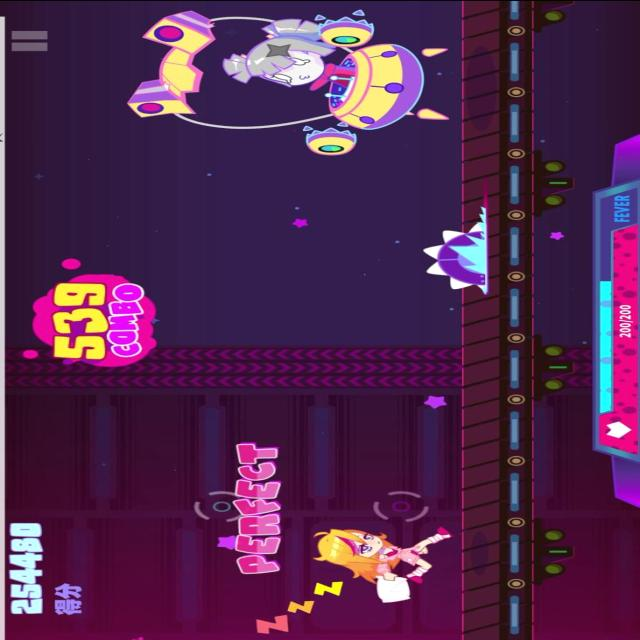ci: (415, 176, 493, 296)
qiangboss: (118, 6, 460, 150)
